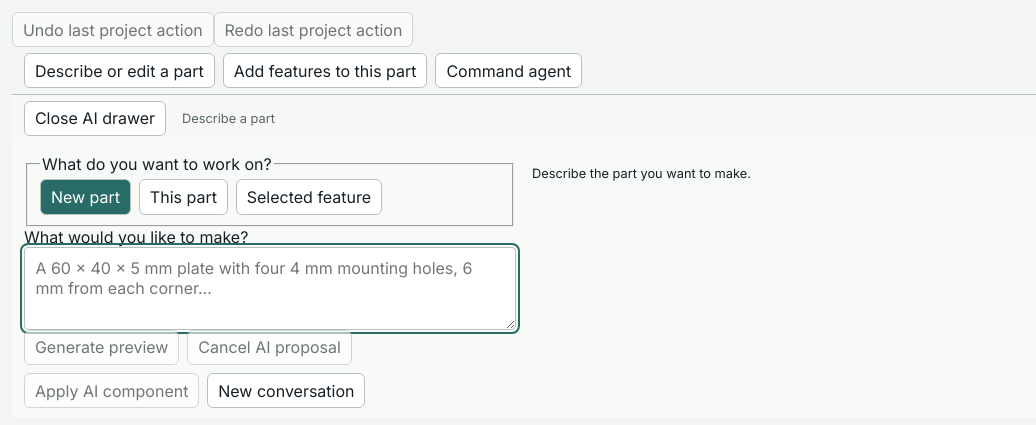
Test: aborts a provider request when closed and does not start a worker for its late response
The width and height of the screenshot is (1036, 425).
Replace the text in the text box labelled "What would you like to make?" with "A plate": (270, 288) [24,247,516,330]
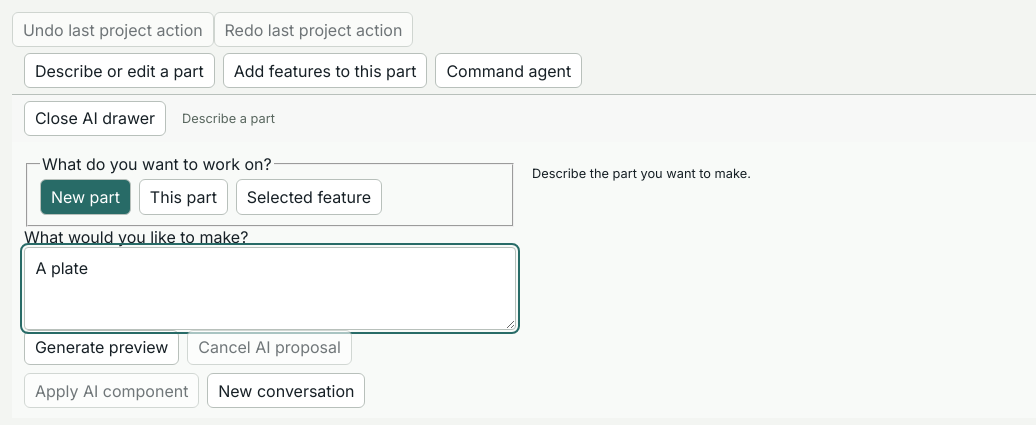
Result: the button "Generate preview" is enabled
Click the button "Generate preview": (102, 347) [24,330,179,365]
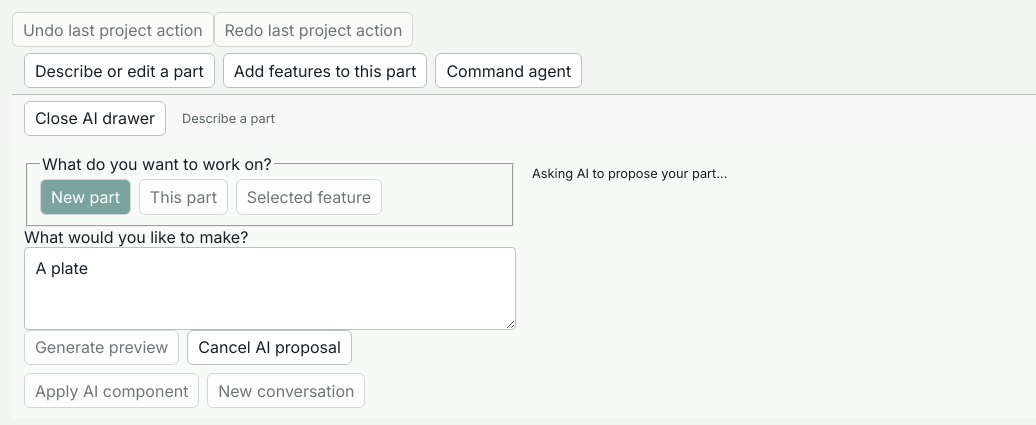
Click the button "Close AI drawer": (95, 118) [24,101,166,136]
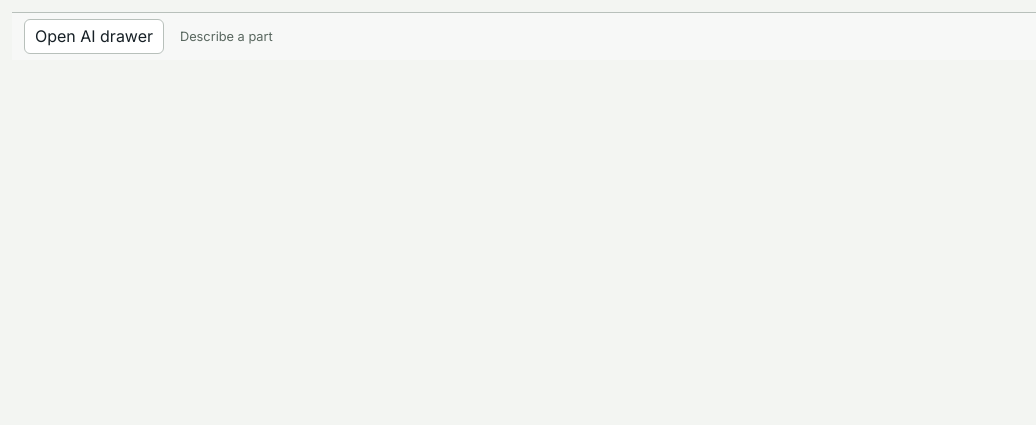
Result: the button "Open AI drawer" is collapsed at [24,19,164,54]
